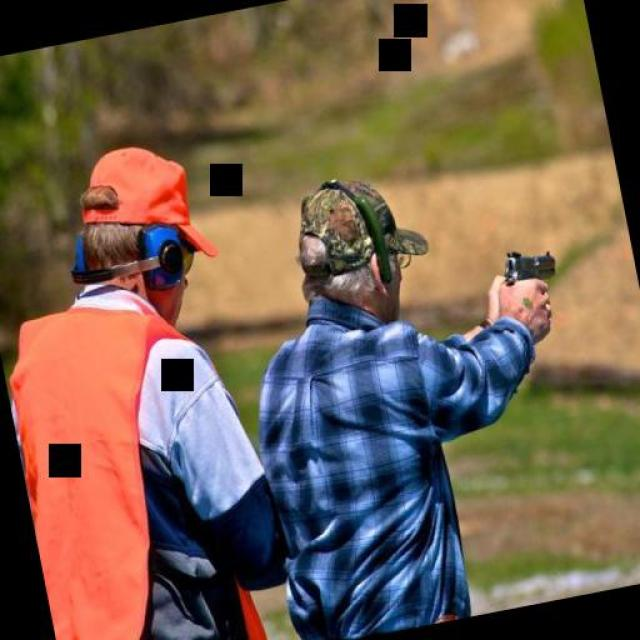gun: (495, 236, 566, 312)
